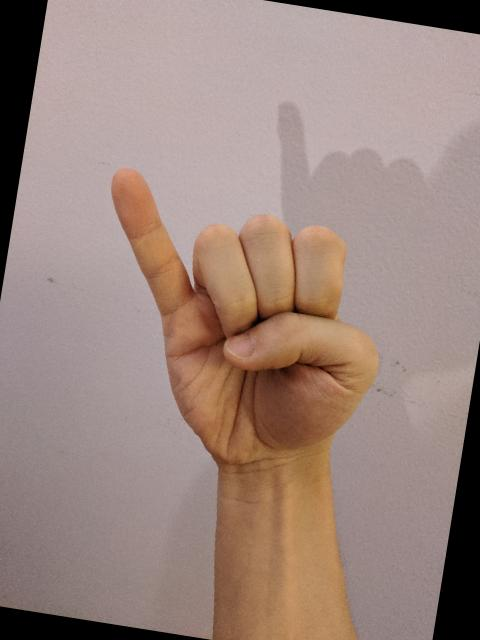I: (64, 157, 410, 493)
